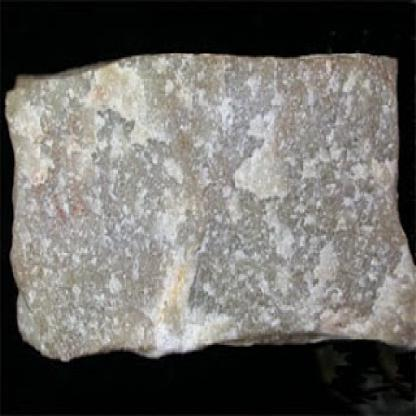Metamorphic_Quartize: (4, 44, 413, 370)
